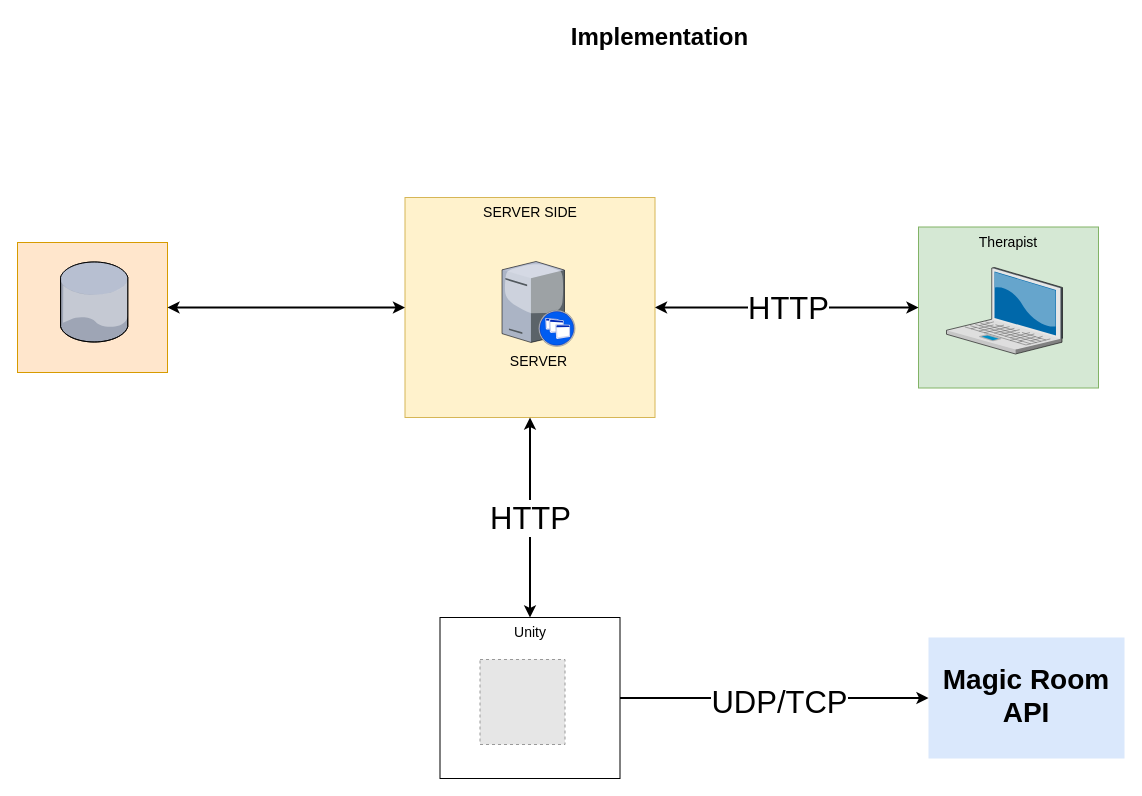
Some shapes in this 1142 by 796 pixel diagram are drawn without their labels. Grey dashed boxes stand in for pictures. Each missing label, with the centre of its shape:
Client: pixel 1004 310
SQL LITE DATABASE: pixel 94 302
